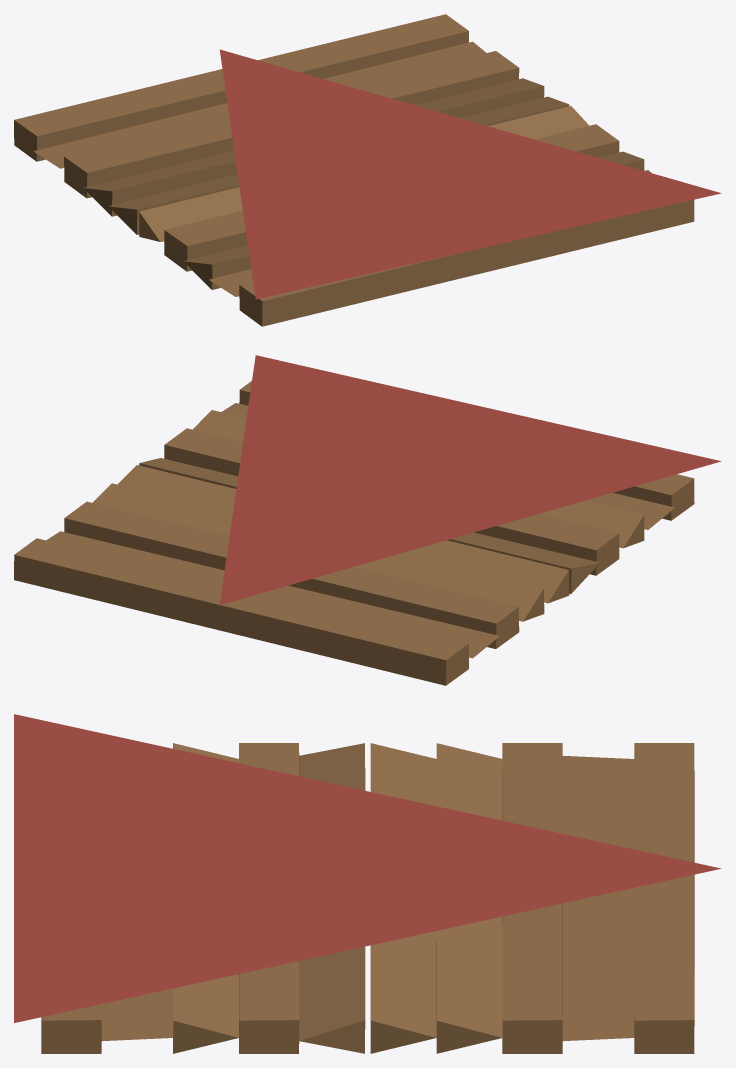
File: harbor-flat-roof.lod2.glb
3 views of the same model, one above another, from view 1: azimuth 30°, elevation 25°; view 2: azimuth 150°, elevation 25°; view 3: azimuth 270°, elevation 25° (orthographic). The views are drawn at different scales.
Visible parts, largest first — view 1: harbor-flat-roof__body, harbor-flat-roof__roof; view 2: harbor-flat-roof__body, harbor-flat-roof__roof; view 3: harbor-flat-roof__roof, harbor-flat-roof__body.
Part boxes in pixels (box(x1,y1,x2,y2)): harbor-flat-roof__body: box(14, 14, 694, 326); harbor-flat-roof__roof: box(219, 49, 721, 299); harbor-flat-roof__body: box(14, 381, 694, 685); harbor-flat-roof__roof: box(219, 355, 721, 604); harbor-flat-roof__roof: box(14, 714, 721, 1022); harbor-flat-roof__body: box(41, 743, 694, 1053).
Size of the model in its own units: 2.15 by 0.1733 by 2.15.
